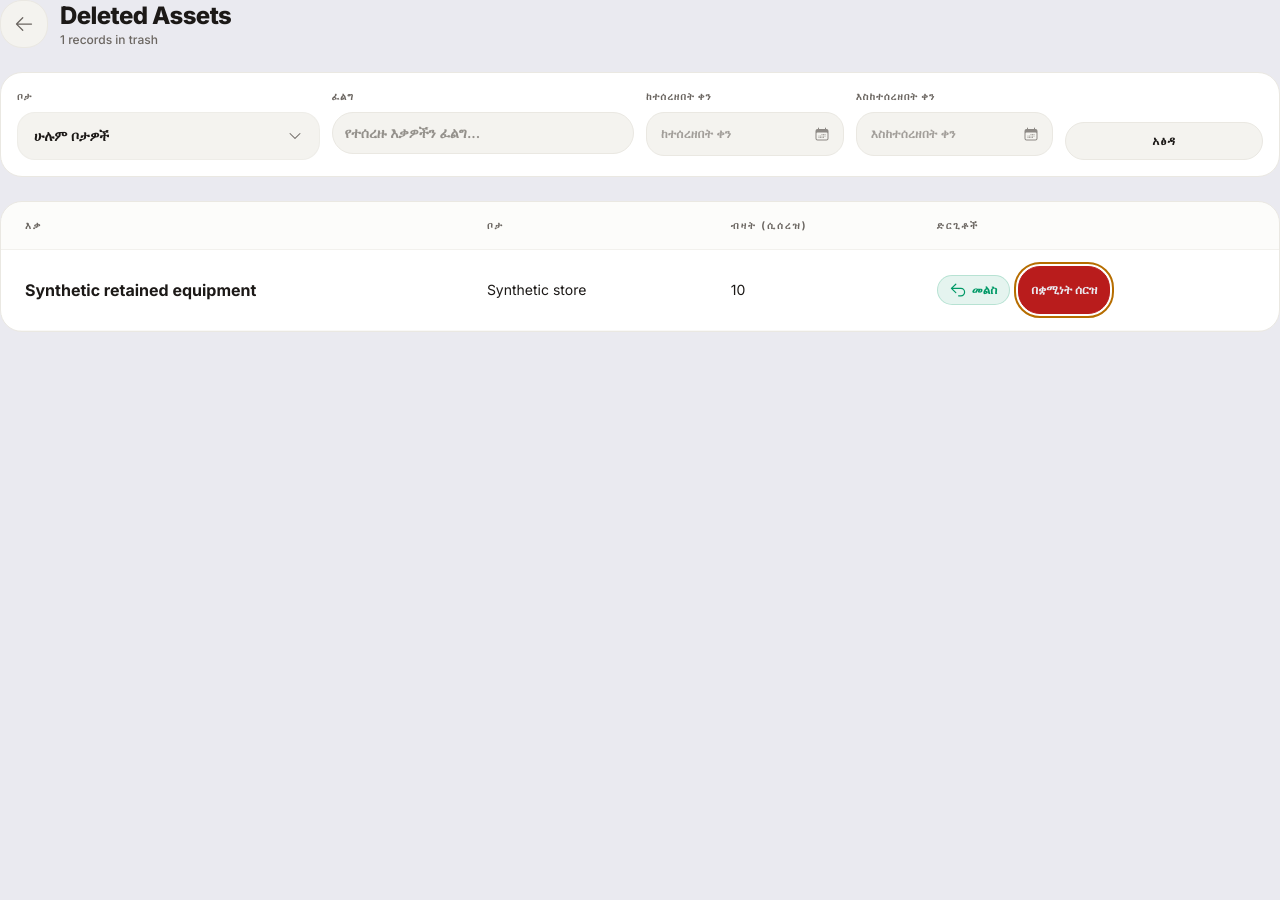
permanent asset deletion recovery › localizes the unknown-commit recovery rather than suggesting a successful deletion
What coordinates should you click on to do the following:
click the button "በቋሚነት ሰርዝ"
I would click on:
 (1064, 290)
Its box is [1018,266,1110,314].
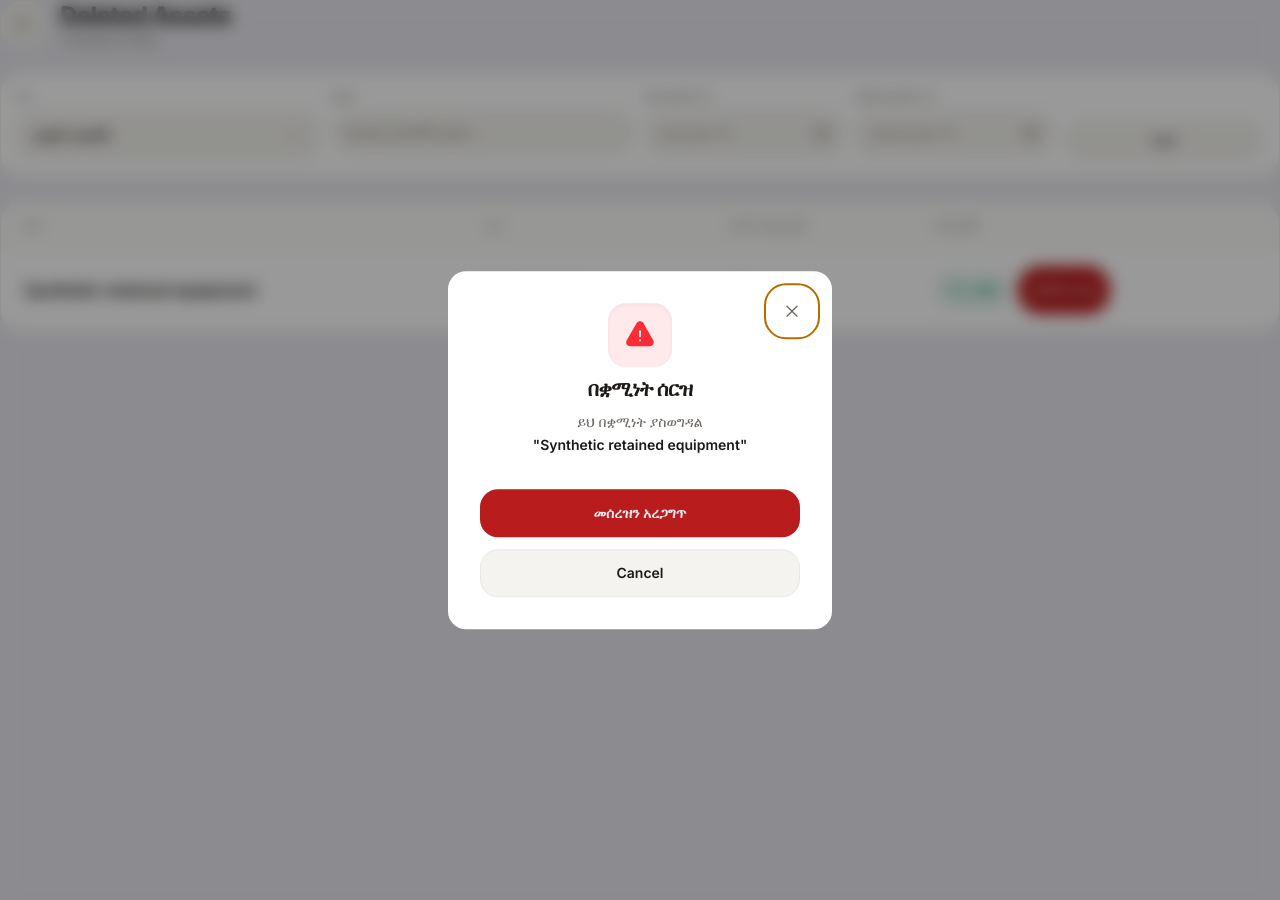
What coordinates should you click on to do the following:
click the button "መሰረዝን አረጋግጥ"
I would click on:
 (640, 513)
Its box is [480,489,800,537].
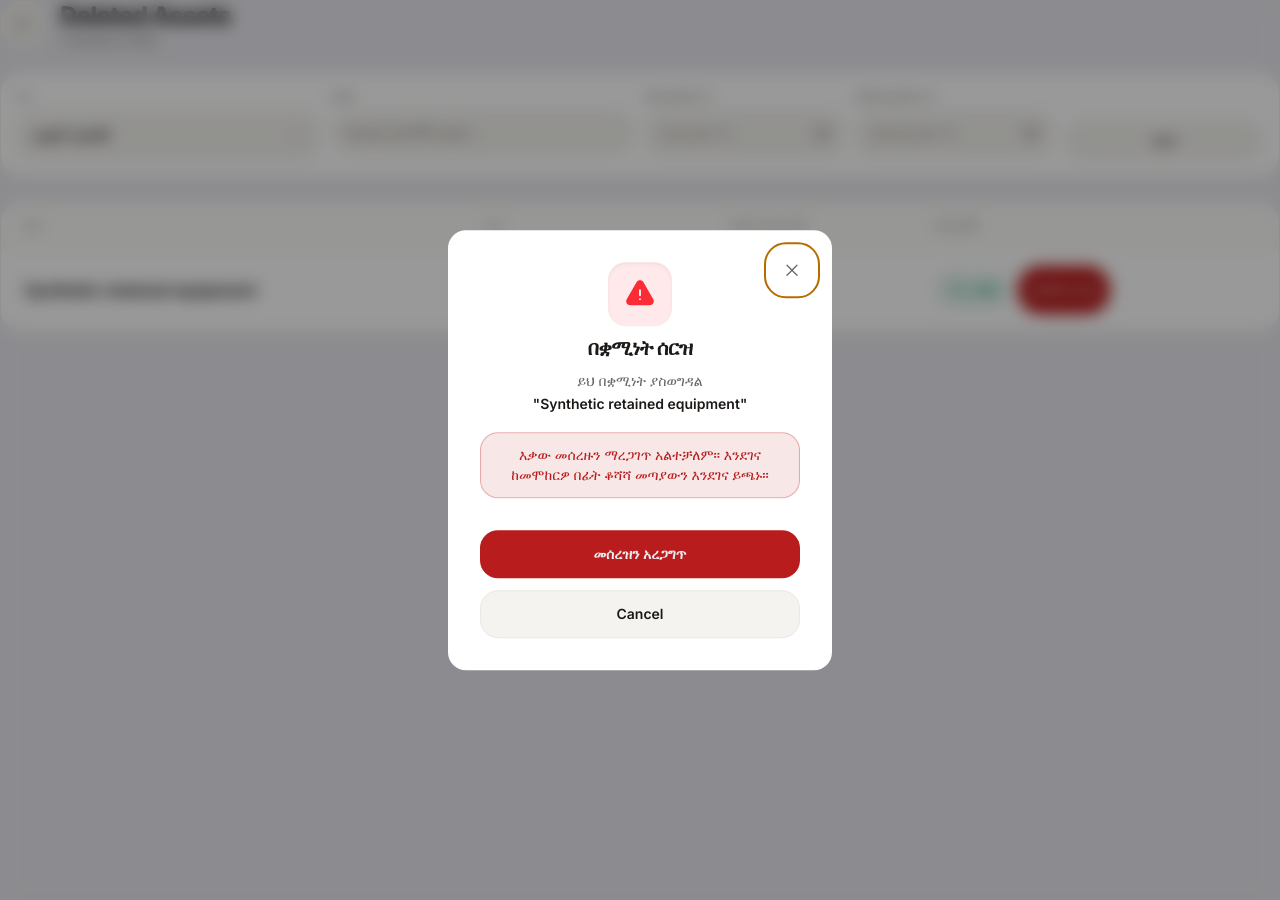
Now the message shows "እቃው መሰረዙን ማረጋገጥ አልተቻለም", box [511,446,769,483]
